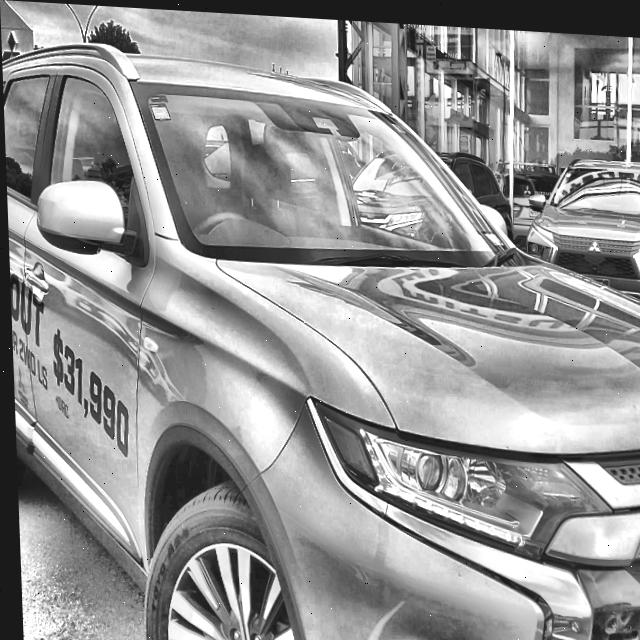light_vehicle: (1, 39, 640, 640)
